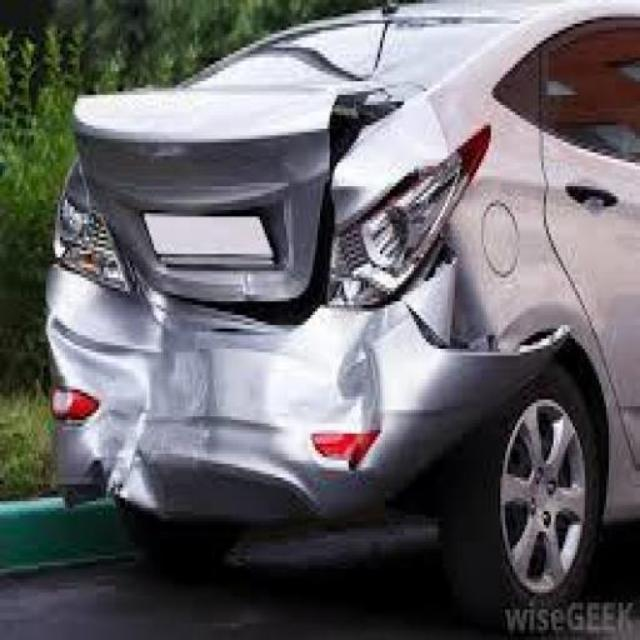dislocated part: (50, 81, 565, 529)
